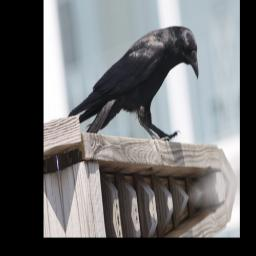Crow: (61, 16, 207, 172)
